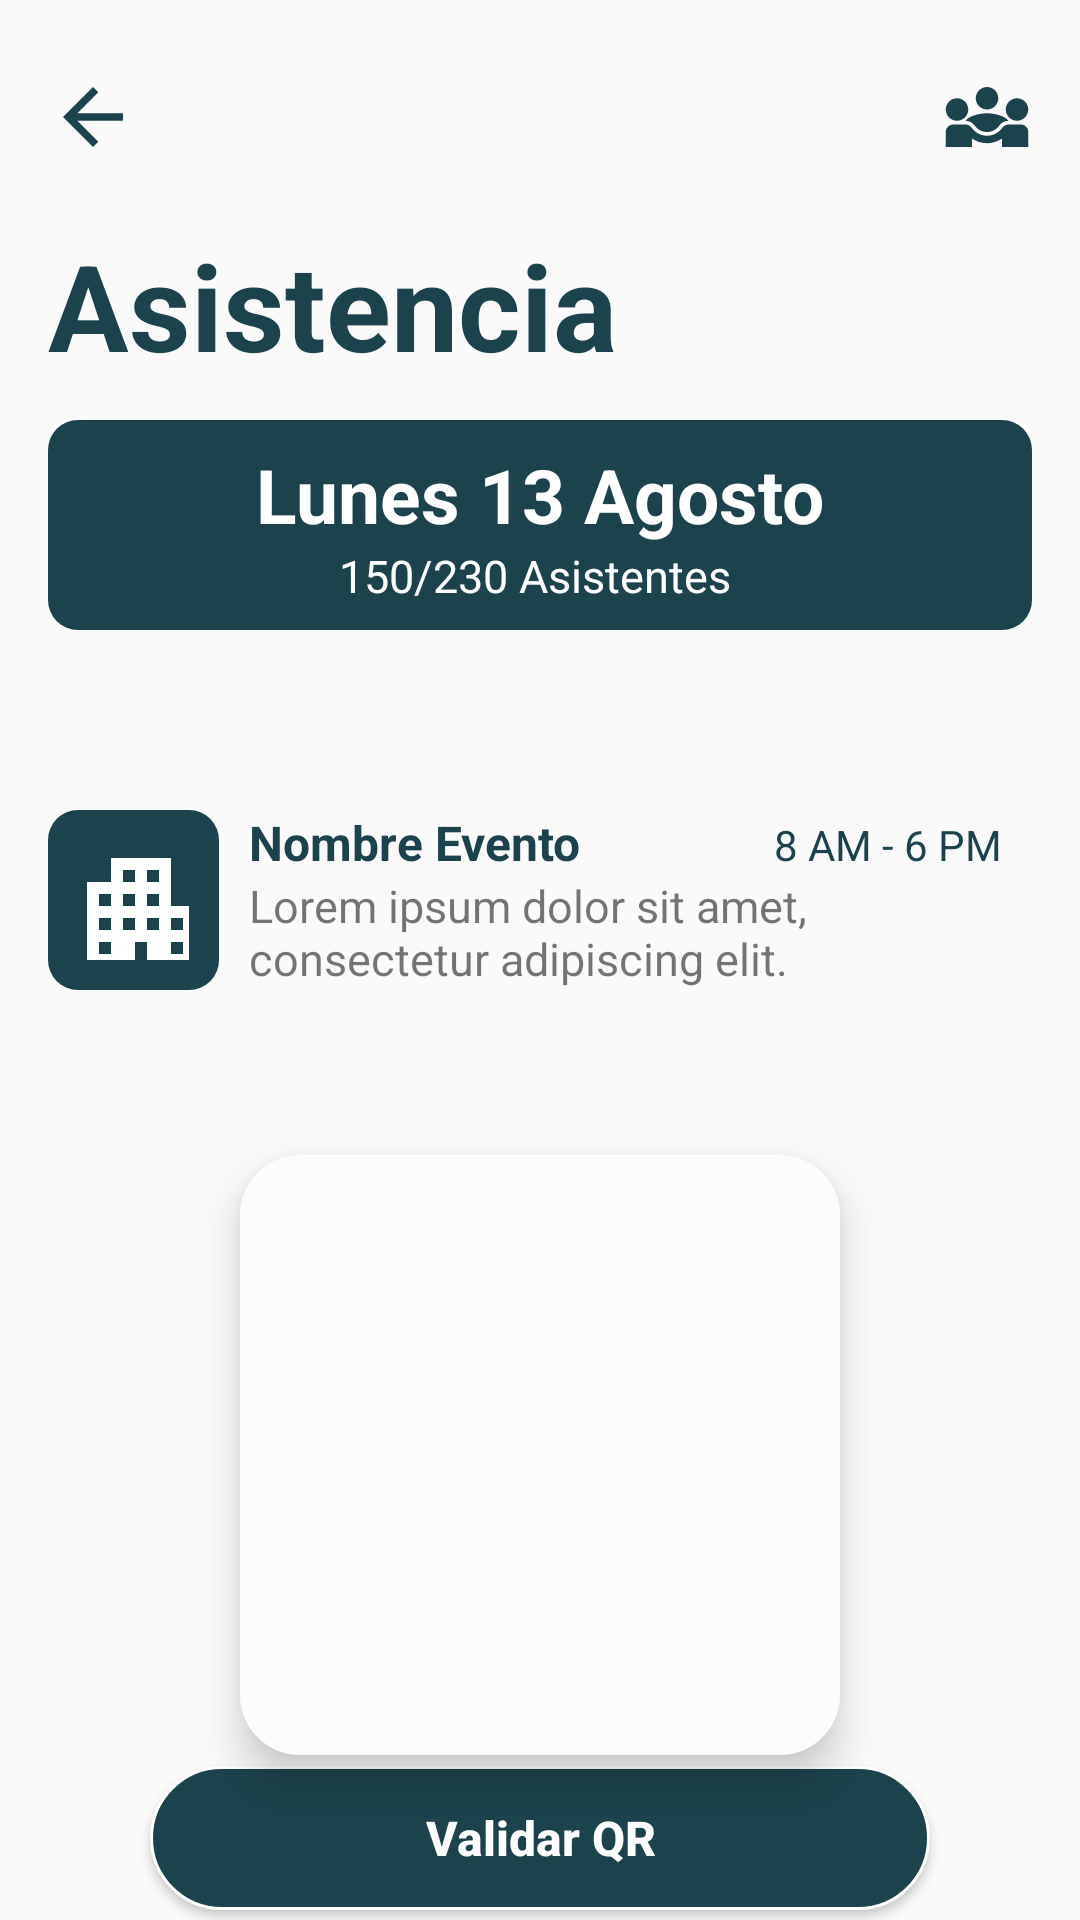

Named icons in this screenshot (1080px×1920px) and their centers, point (x, y):
apartment: point (138, 909)
arrow back: point (93, 117)
diversity: point (987, 117)
